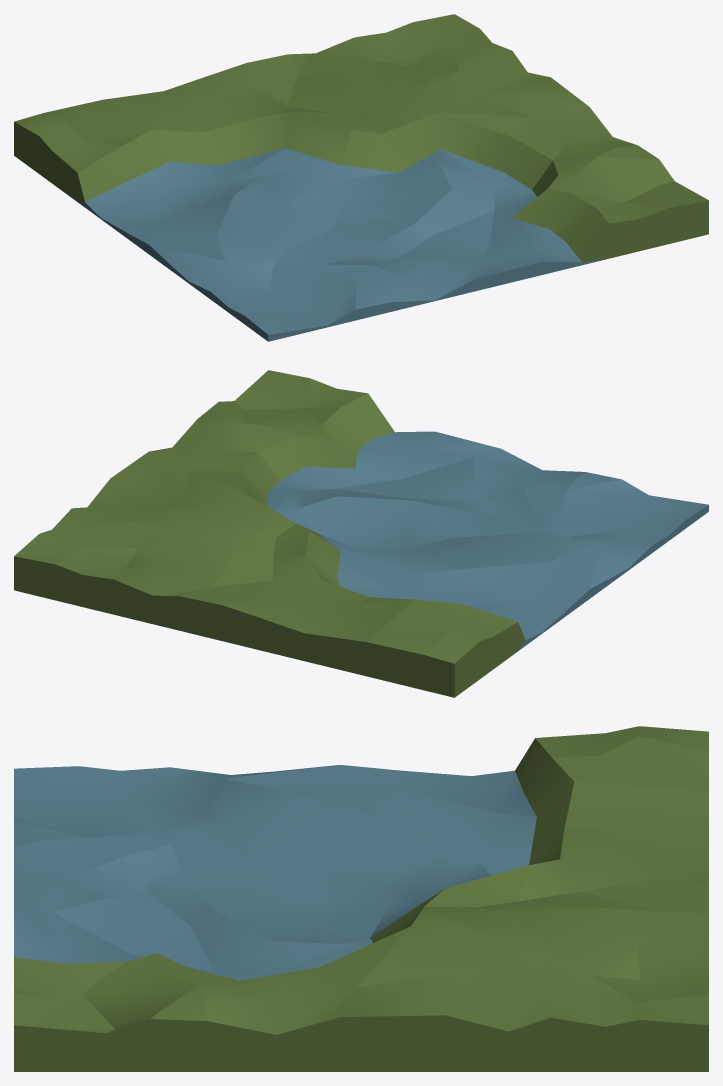
The model's file is Water_Round_RU.glb.
3 renders of one model, top to bottom at view 1: azimuth 30°, elevation 25°; view 2: azimuth 150°, elevation 25°; view 3: azimuth 270°, elevation 25°, orthographic. The views are drawn at different scales.
Visible parts, largest first — view 1: Water_Round_RU; view 2: Water_Round_RU; view 3: Water_Round_RU.
Part boxes in pixels (x1,y1,x2,y2): Water_Round_RU: (14,14,708,341); Water_Round_RU: (14,370,708,697); Water_Round_RU: (14,726,708,1071).
Bounding box in the file's own units: 1.47 × 0.1502 × 1.47.
